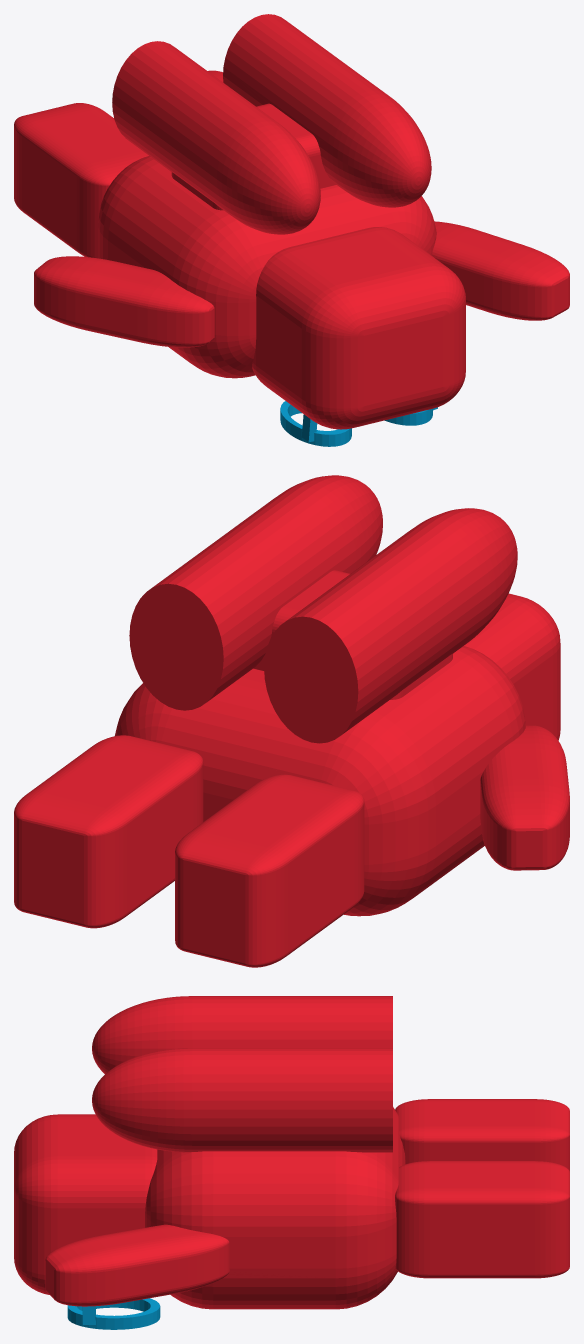
The model's file is tinker.obj.
3 renders of one model, top to bottom at view 1: azimuth 30°, elevation 25°; view 2: azimuth 150°, elevation 25°; view 3: azimuth 270°, elevation 25°, orthographic. The views are drawn at different scales.
Visible parts, largest first — view 1: group_0_15277357, group_0_40919; view 2: group_0_15277357; view 3: group_0_15277357, group_0_40919.
Part boxes in pixels (bbox=[...]): group_0_15277357: bbox=[14, 14, 569, 429]; group_0_40919: bbox=[280, 401, 437, 446]; group_0_15277357: bbox=[14, 475, 569, 967]; group_0_15277357: bbox=[14, 996, 569, 1309]; group_0_40919: bbox=[67, 1298, 160, 1329].
Size of the model in its own units: 69.04 by 46 by 85.48.
